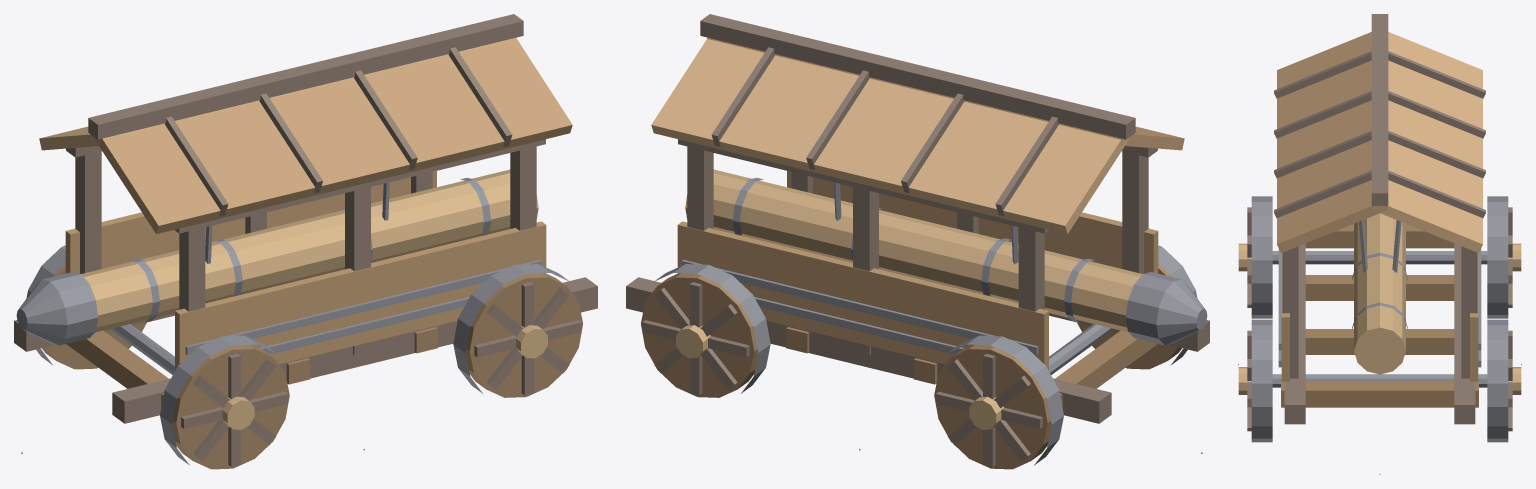
Rendered from ws_ram_unit_t2.glb.
3 views of the same model, side by side, from view 1: azimuth 30°, elevation 25°; view 2: azimuth 150°, elevation 25°; view 3: azimuth 270°, elevation 25° (orthographic). The views are drawn at different scales.
Parts seen in each view (by area): view 1: body, leg_fl, leg_bl, leg_fr; view 2: body, leg_fr, leg_br, leg_fl; view 3: body, leg_bl, leg_br, leg_fl, leg_fr.
Part boxes in pixels (x1,y1,x2,y2): body: [14, 14, 597, 453]; leg_fl: [160, 335, 289, 469]; leg_bl: [453, 264, 582, 397]; leg_fr: [26, 245, 146, 369]; body: [626, 14, 1209, 453]; leg_fr: [934, 335, 1063, 469]; leg_br: [641, 264, 770, 397]; leg_fl: [1077, 245, 1197, 369]; body: [1238, 14, 1521, 474]; leg_bl: [1238, 319, 1272, 442]; leg_br: [1487, 319, 1521, 442]; leg_fl: [1238, 196, 1272, 318]; leg_fr: [1487, 196, 1521, 318].
Bounding box in the file's own units: 2.2 × 1.27 × 1.2.
